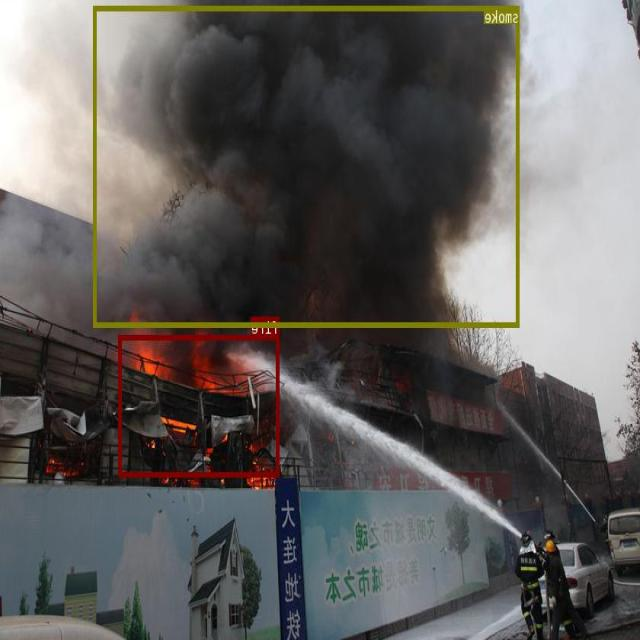fire: (120, 334, 280, 475)
smoke: (94, 5, 520, 326)
